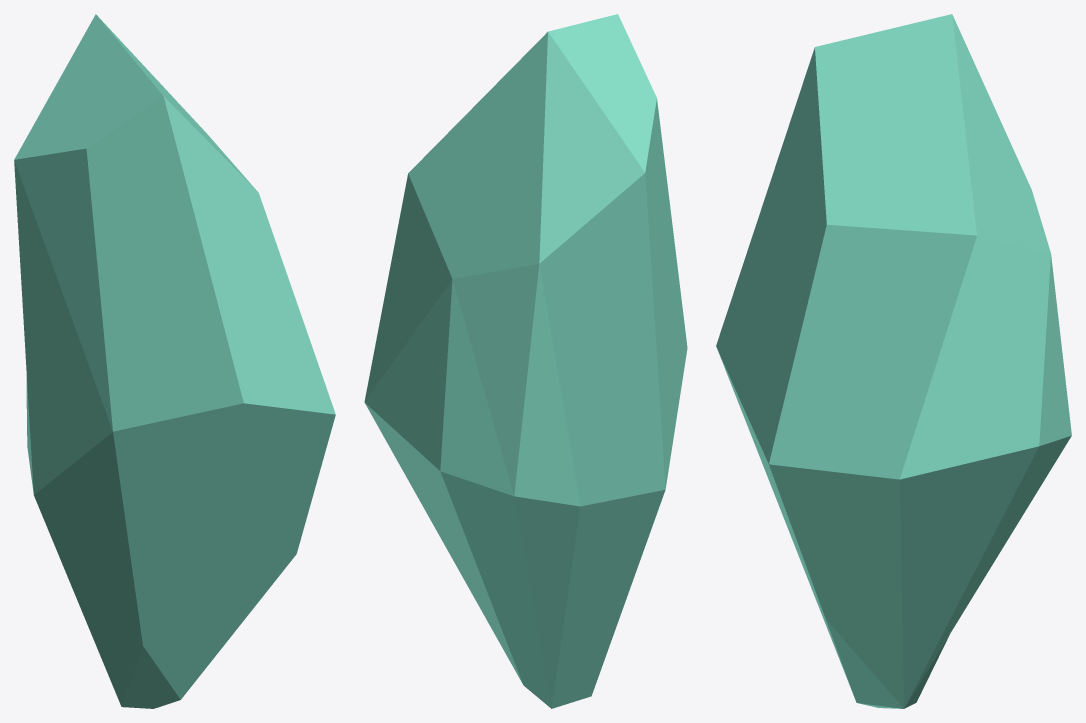
File: item_green.fbx
3 renders of one model, left to right at view 1: azimuth 30°, elevation 25°; view 2: azimuth 150°, elevation 25°; view 3: azimuth 270°, elevation 25°, orthographic. The views are drawn at different scales.
Parts seen in each view (by area): view 1: pCube2; view 2: pCube2; view 3: pCube2.
Boxes of the visible parts, <box> form: pCube2: <box>14,14,335,708</box>; pCube2: <box>364,14,687,708</box>; pCube2: <box>716,14,1071,708</box>.
Bounding box in the file's own units: 0.4066 × 0.9757 × 0.4606.
